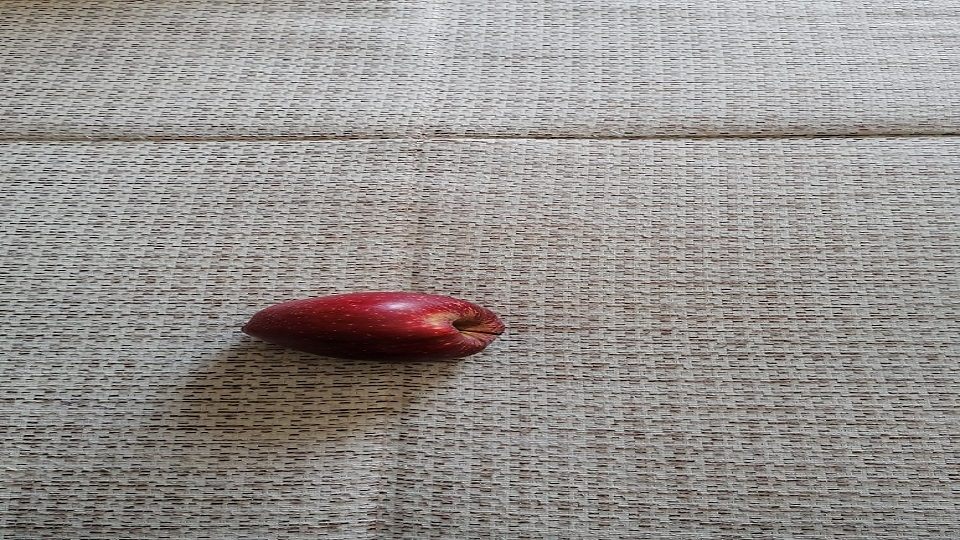elma: (239, 290, 508, 367)
